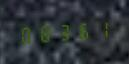eight: (36, 21, 53, 44)
one: (90, 18, 107, 40)
six: (72, 19, 89, 42)
three: (54, 20, 71, 43)
zero: (18, 23, 35, 46)
